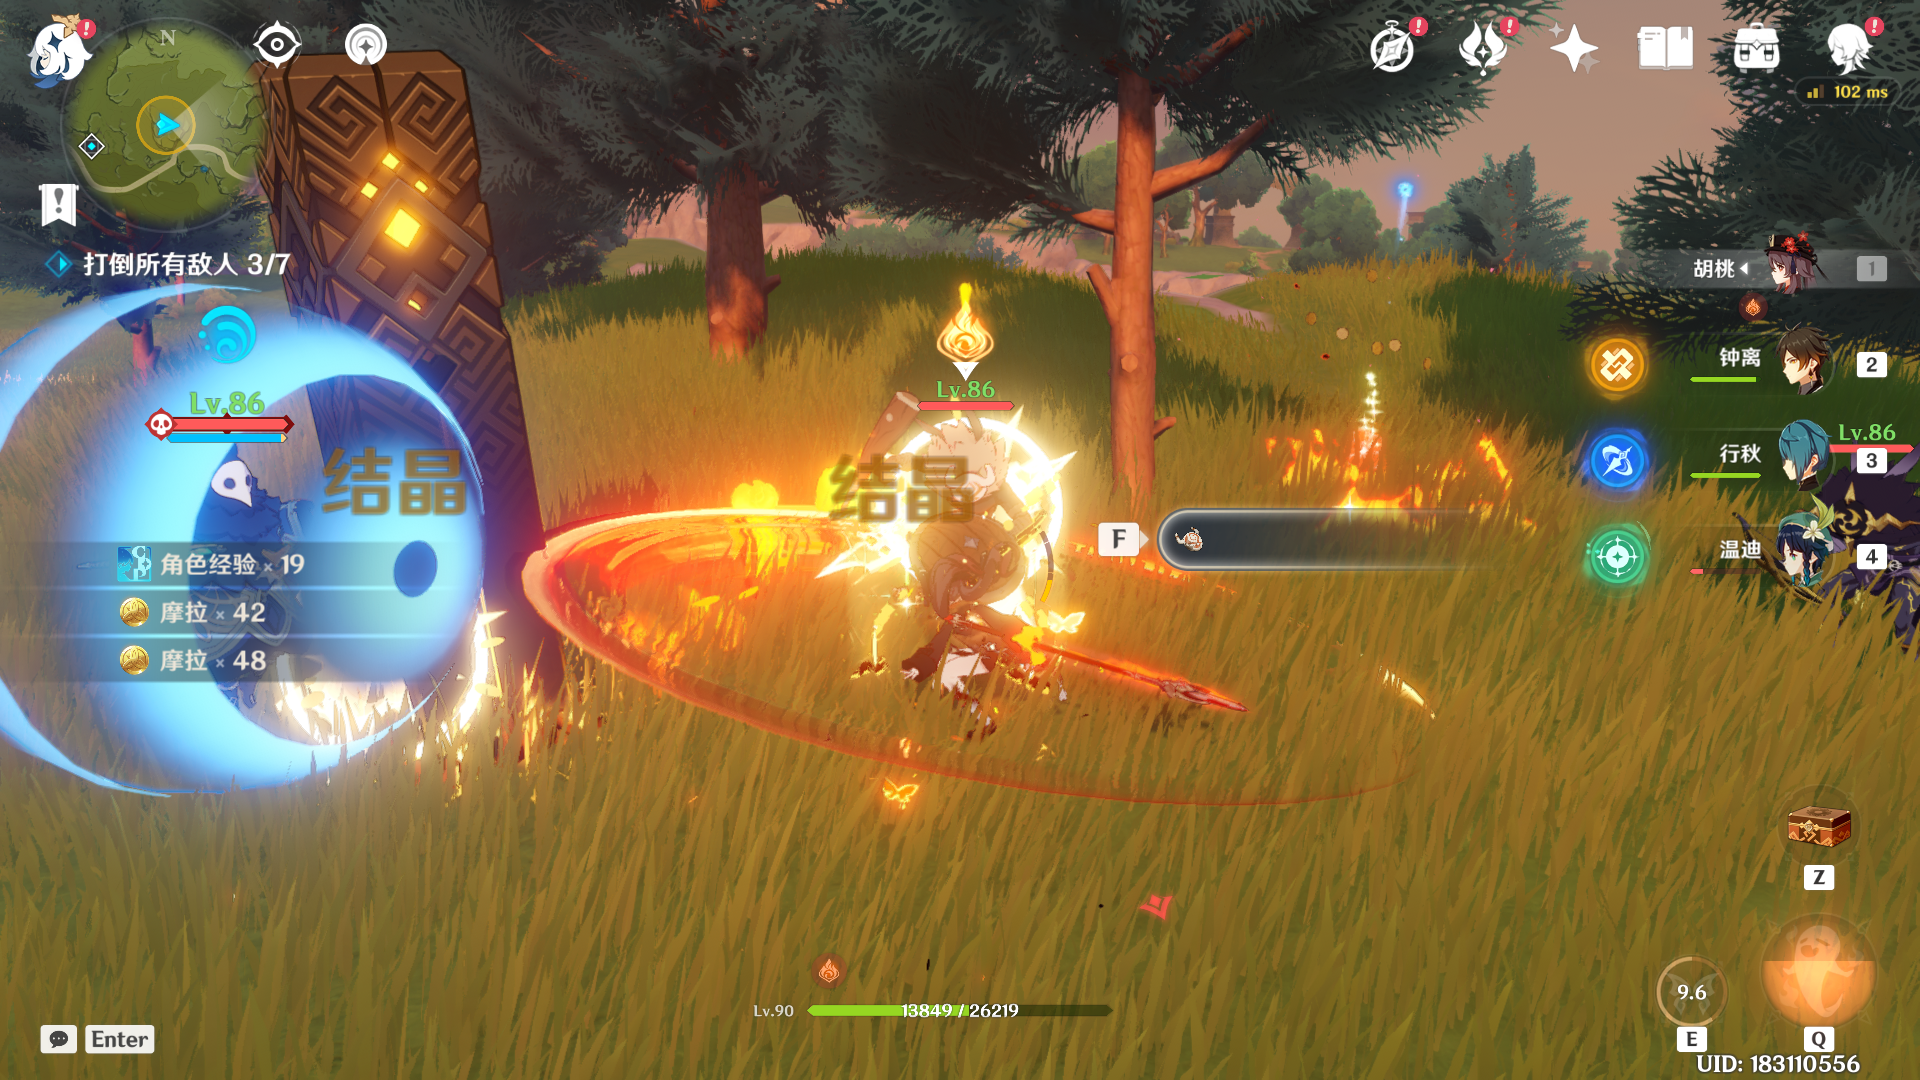caster: (69, 380, 368, 777)
character: (843, 542, 1135, 738)
hili: (837, 398, 1063, 688)
